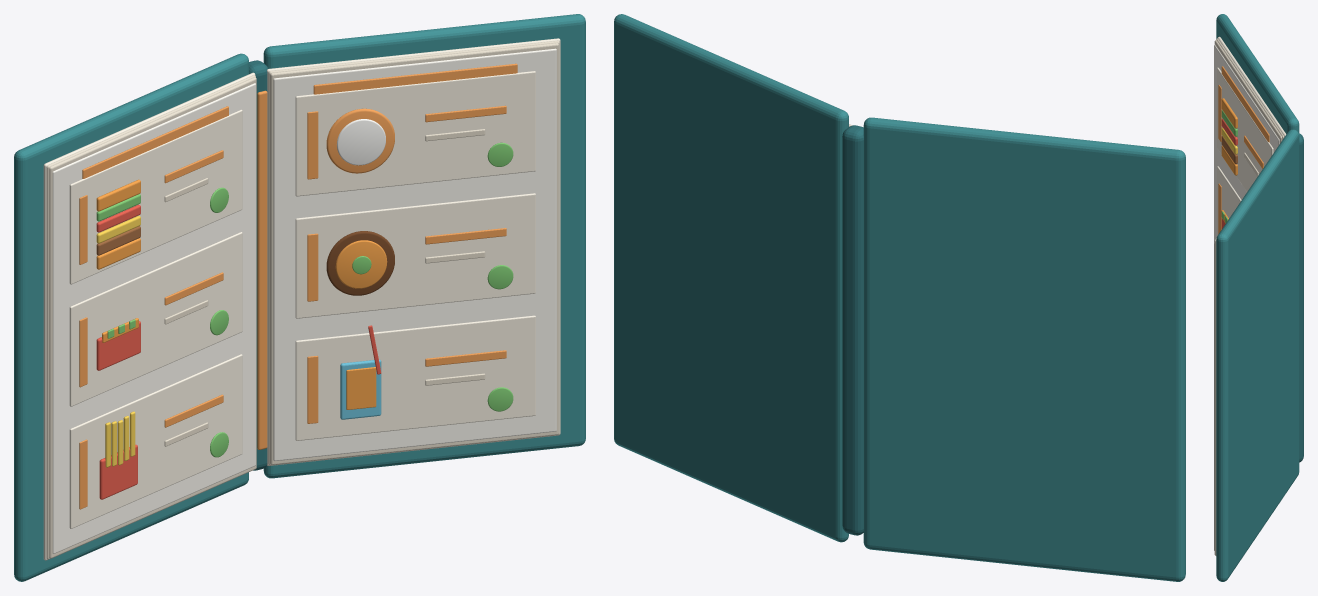
Rendered from menu.glb.
3 renders of one model, left to right at view 1: azimuth 30°, elevation 25°; view 2: azimuth 150°, elevation 25°; view 3: azimuth 270°, elevation 25°, orthographic. The views are drawn at different scales.
Visible parts, largest first — view 1: Menu_RightPage, Menu_LeftPage, Menu_RightCover, Menu_LeftCover, Menu_RightItem_Drink_Card, Menu_RightItem_Noodles_Card, Menu_RightItem_Rice_Card, Menu_LeftItem_Soup_Card, Menu_LeftItem_Fries_Card, Menu_LeftItem_Burger_Card, Menu_RightPageStack_2, Menu_LeftPageStack_2 (+22 smaller); view 2: Menu_LeftCover, Menu_RightCover, Menu_Spine; view 3: Menu_RightCover, Menu_LeftCover, Menu_LeftItem_Burger_Card, Menu_LeftPage, Menu_Spine, Menu_LeftItem_Soup_Card, Menu_RightPageStack_2, Menu_LeftPageStack_2, Menu_LeftHeader, Menu_LeftPageStack_0, Menu_LeftPageStack_1, Menu_RightPageStack_1 (+10 smaller).
Part boxes in pixels (x1,y1,x2,y2): Menu_RightPage: [273, 48, 556, 461]; Menu_LeftPage: [52, 83, 255, 553]; Menu_RightCover: [263, 14, 585, 478]; Menu_LeftCover: [14, 53, 248, 581]; Menu_RightItem_Drink_Card: [295, 315, 535, 440]; Menu_RightItem_Noodles_Card: [295, 193, 535, 318]; Menu_RightItem_Rice_Card: [295, 71, 535, 196]; Menu_LeftItem_Soup_Card: [69, 232, 242, 406]; Menu_LeftItem_Fries_Card: [69, 354, 242, 528]; Menu_LeftItem_Burger_Card: [69, 109, 242, 284]; Menu_RightPageStack_2: [270, 43, 558, 465]; Menu_LeftPageStack_2: [49, 77, 256, 558]; Menu_LeftCover: [863, 117, 1185, 581]; Menu_RightCover: [614, 14, 848, 542]; Menu_Spine: [842, 125, 863, 535]; Menu_RightCover: [1216, 129, 1299, 581]; Menu_LeftCover: [1216, 14, 1299, 133]; Menu_LeftItem_Burger_Card: [1217, 67, 1273, 191]; Menu_LeftPage: [1214, 45, 1279, 242]; Menu_Spine: [1299, 133, 1303, 462]; Menu_LeftItem_Soup_Card: [1217, 166, 1241, 236]; Menu_RightPageStack_2: [1214, 238, 1216, 555]; Menu_LeftPageStack_2: [1214, 40, 1282, 143]; Menu_LeftHeader: [1221, 66, 1269, 142]; Menu_LeftPageStack_0: [1217, 36, 1286, 136]; Menu_LeftPageStack_1: [1216, 38, 1284, 139]; Menu_RightPageStack_1: [1216, 240, 1216, 555].
Size of the model in its own units: 0.2976 by 0.215 by 0.0503.
